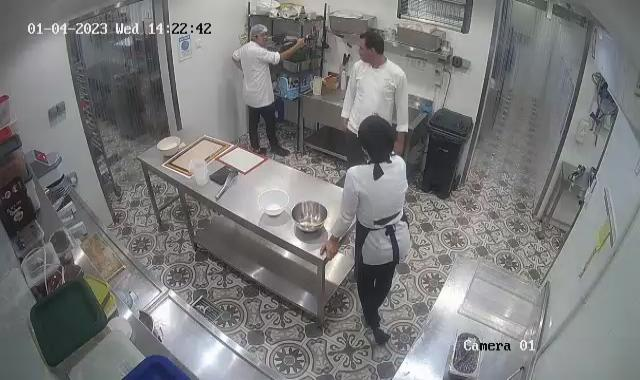hairnet: (248, 23, 268, 43)
no_hairnet: (354, 113, 398, 160), (358, 30, 384, 59)
